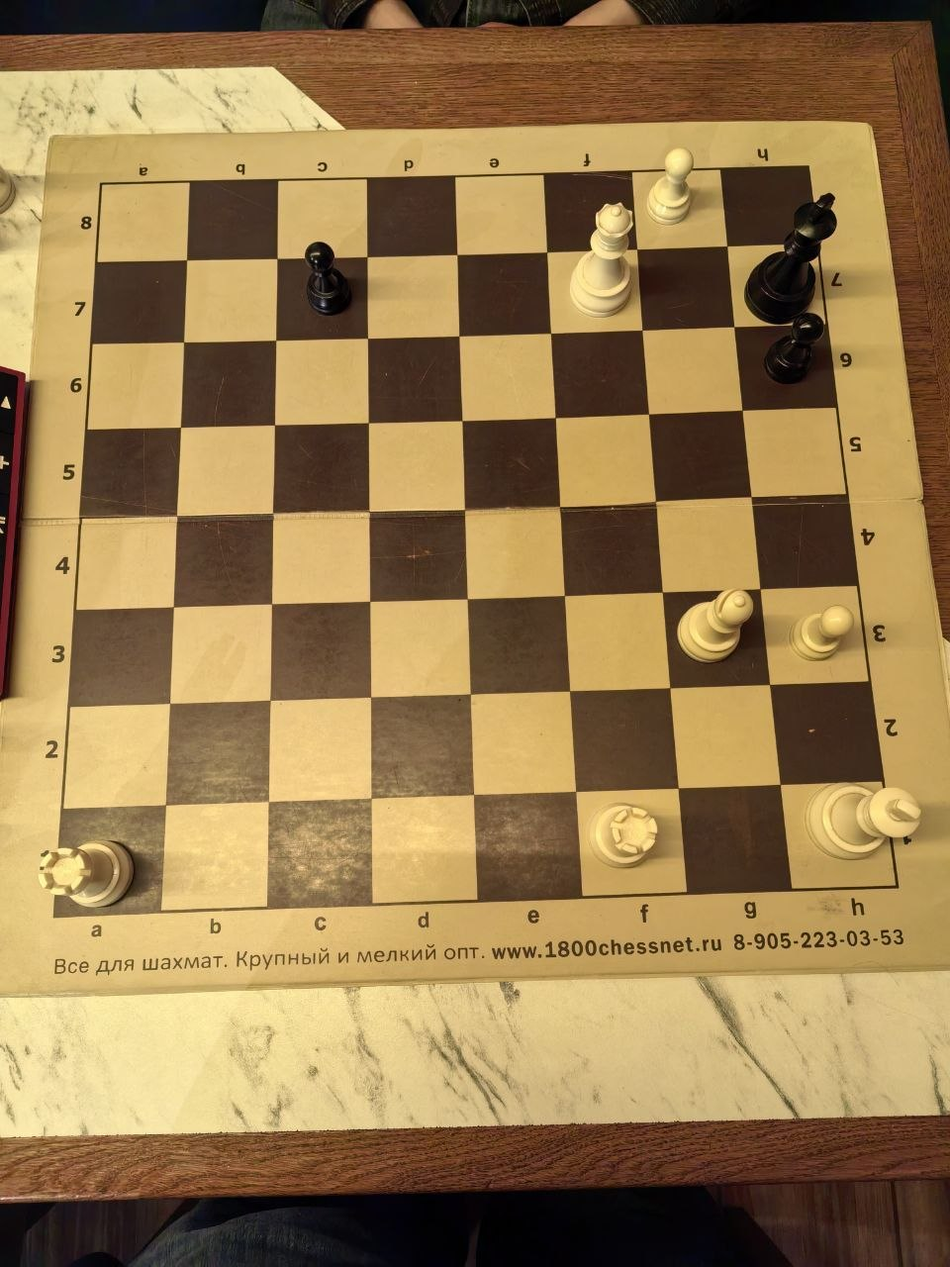black-bishop: (831, 1109, 950, 1267)
black-king: (594, 158, 712, 317)
black-knight: (0, 1109, 119, 1267), (594, 1109, 712, 1267)
black-pawn: (712, 792, 831, 950)
black-rook: (712, 0, 831, 158), (831, 792, 950, 950)
white-bishop: (831, 158, 950, 317)
white-rook: (831, 317, 950, 475), (238, 158, 356, 317)
